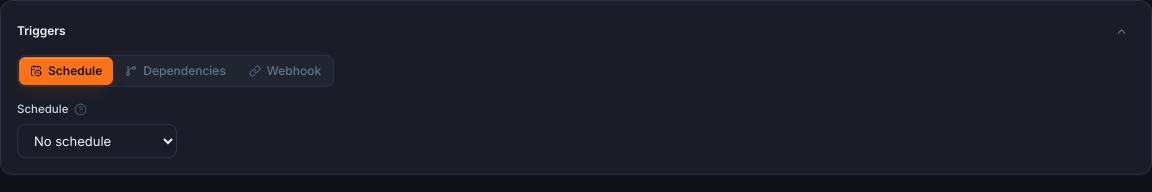
it: TriggersCard › prompts to save first when the pipeline has no id yet
Click the button with test id "triggers-tab-webhook" at (285, 71), box x1=238 y1=57 x2=332 y2=85
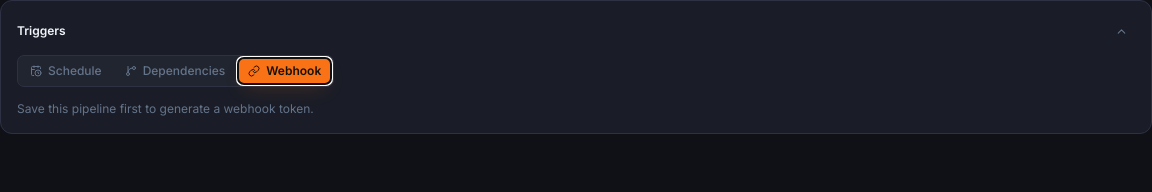
Expected: the text "Save this pipeline first to generate a webhook token." is shown, x1=17 y1=101 x2=314 y2=116
